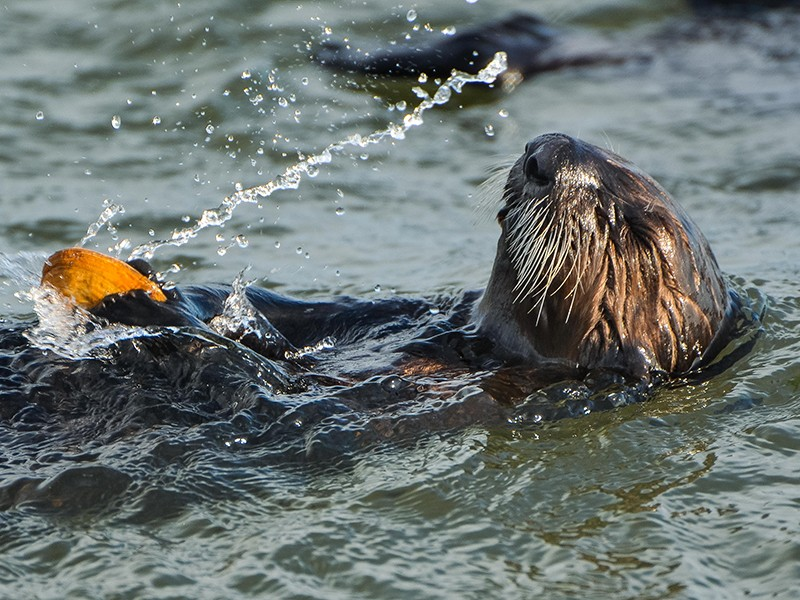otter: (32, 116, 800, 494)
